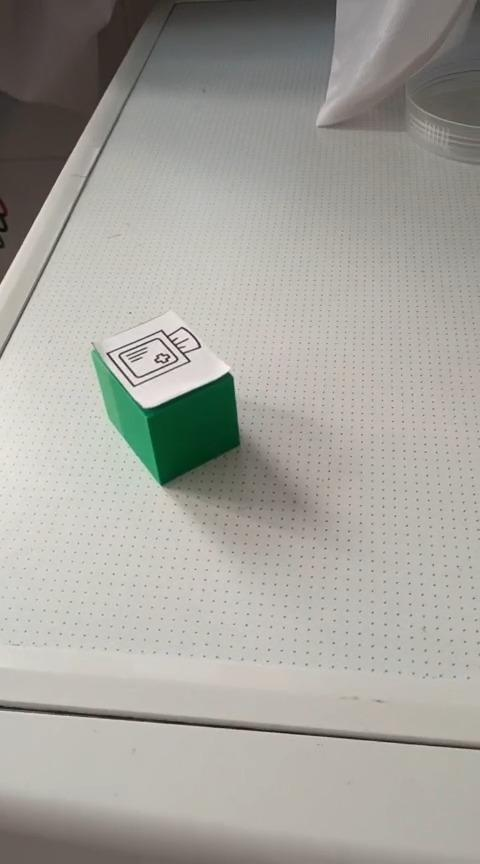Gauze: (89, 308, 241, 487)
